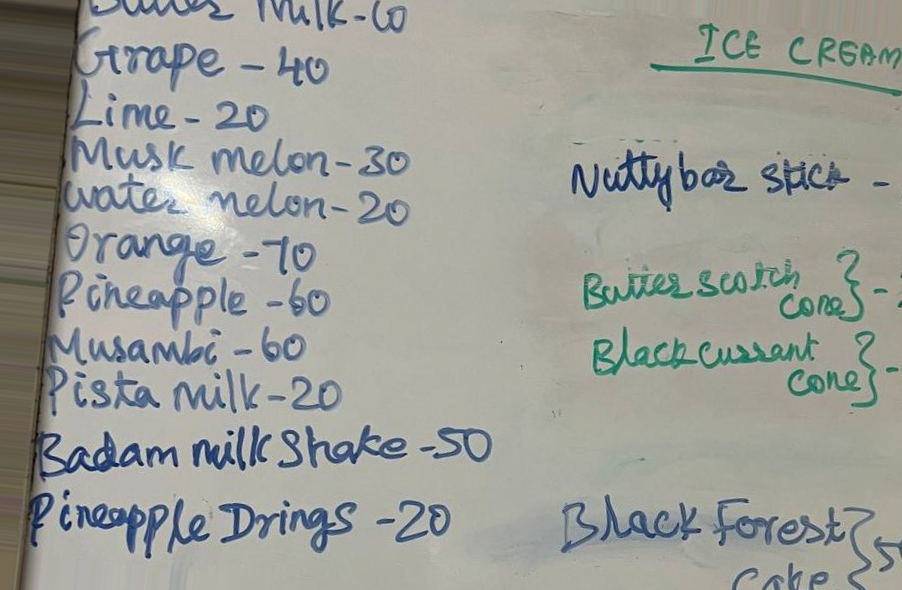badam milkshake - 50: (36, 424, 497, 476)
black current cone - 40: (589, 328, 885, 414)
black forest cake - 50: (561, 490, 902, 589)
butterscotch cone - 35: (578, 242, 871, 327)
grape - 40: (72, 24, 344, 85)
lime - 20: (73, 83, 273, 137)
musambi - 60: (47, 323, 321, 364)
musk melon - 30: (67, 131, 414, 181)
nutty bar - 30: (565, 144, 856, 211)
orange - 70: (56, 216, 319, 270)
pineapple - 60: (55, 274, 330, 323)
pineapple drink - 20: (26, 485, 455, 552)
pista milk - 20: (44, 359, 350, 418)
water melon - 20: (62, 172, 416, 223)
